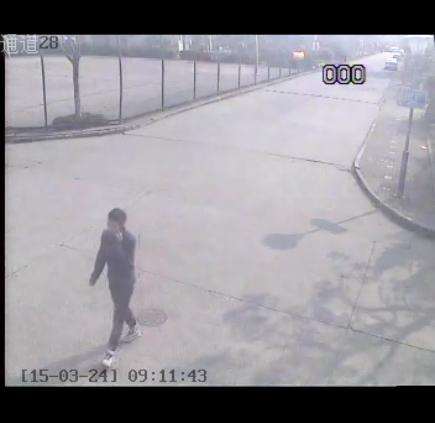person: (81, 191, 158, 375)
